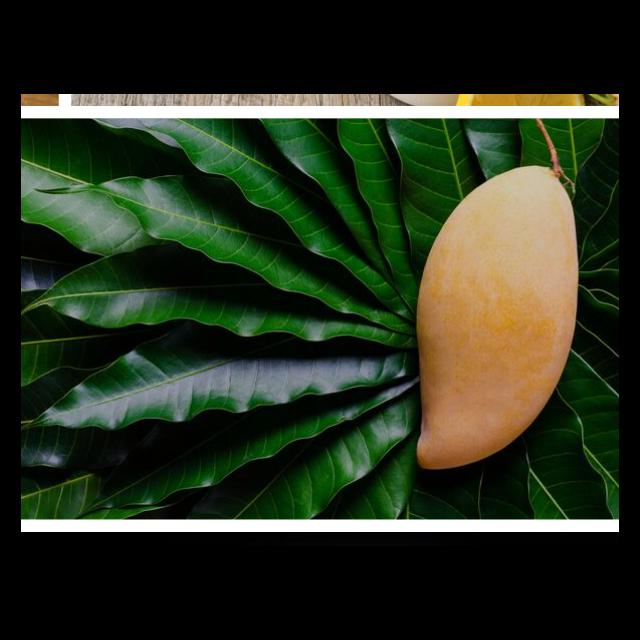mango: (414, 165, 580, 472)
